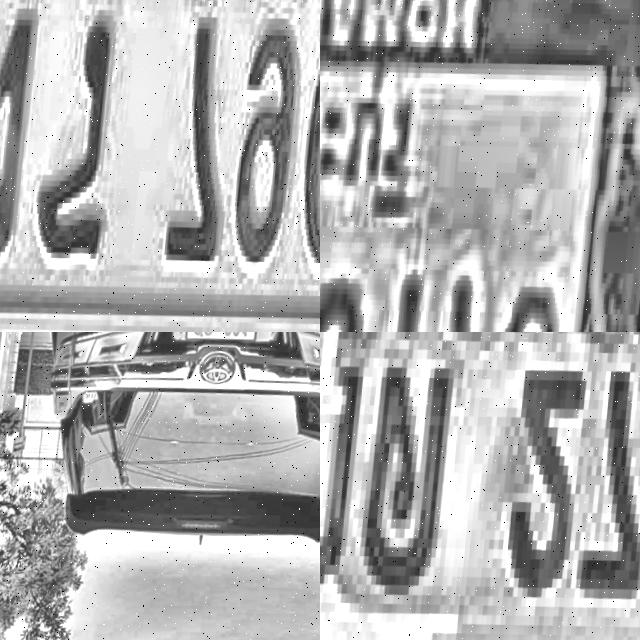license-plate: (0, 0, 320, 332), (320, 0, 640, 332), (320, 332, 640, 640), (186, 332, 259, 350)
